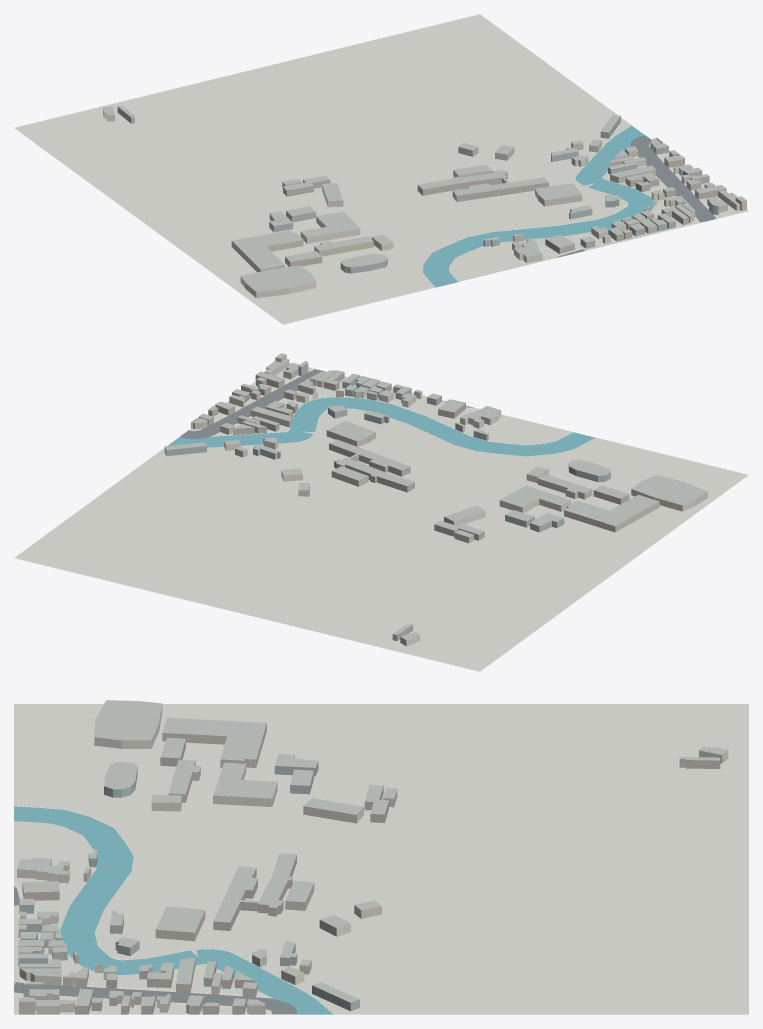
3 views of the same model, one above another, from view 1: azimuth 30°, elevation 25°; view 2: azimuth 150°, elevation 25°; view 3: azimuth 270°, elevation 25° (orthographic). The views are drawn at different scales.
Parts seen in each view (by area): view 1: city; view 2: city; view 3: city.
Boxes of the visible parts, x1,y1,x2,y2 form: city: (14, 14, 748, 324); city: (14, 353, 748, 671); city: (14, 700, 748, 1014).
Size of the model in its own units: 500 by 9.78 by 500.
